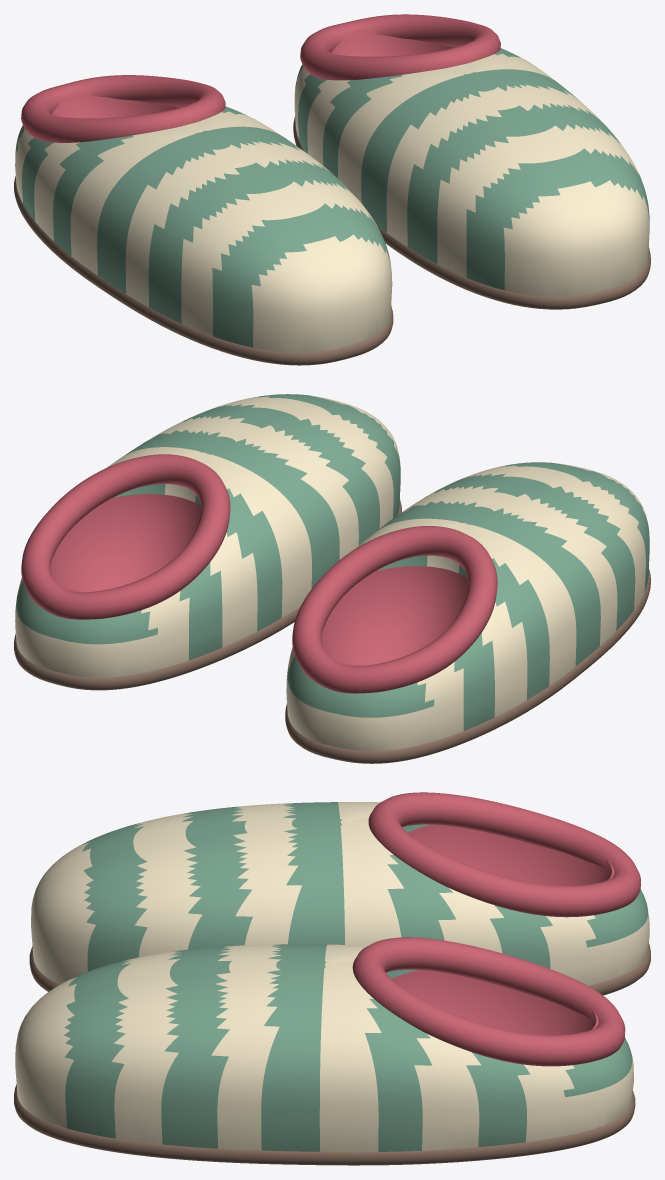
Rendered from sailor-slippers.glb.
The picture shows the model from 3 angles, top to bottom: view 1: azimuth 30°, elevation 25°; view 2: azimuth 150°, elevation 25°; view 3: azimuth 270°, elevation 25°; orthographic projection. The views are drawn at different scales.
Parts seen in each view (by area): view 1: LEFT_SLIPPER_UPPER_CS_STRIPE1_CS_STRIPE2, RIGHT_SLIPPER_UPPER_CS_STRIPE1_CS_STRIPE2, LEFT_COLLAR_CS_ANKLE, RIGHT_COLLAR_CS_ANKLE, LEFT_SOLE_CS_SOLE, RIGHT_SOLE_CS_SOLE; view 2: RIGHT_SLIPPER_UPPER_CS_STRIPE1_CS_STRIPE2, LEFT_SLIPPER_UPPER_CS_STRIPE1_CS_STRIPE2, RIGHT_COLLAR_CS_ANKLE, LEFT_COLLAR_CS_ANKLE, LEFT_SOLE_CS_SOLE, RIGHT_SOLE_CS_SOLE; view 3: RIGHT_SLIPPER_UPPER_CS_STRIPE1_CS_STRIPE2, LEFT_SLIPPER_UPPER_CS_STRIPE1_CS_STRIPE2, RIGHT_COLLAR_CS_ANKLE, LEFT_COLLAR_CS_ANKLE, RIGHT_SOLE_CS_SOLE, LEFT_SOLE_CS_SOLE.
Boxes of the visible parts, bbox=[...] form: LEFT_SLIPPER_UPPER_CS_STRIPE1_CS_STRIPE2: bbox=[15, 87, 392, 352]; RIGHT_SLIPPER_UPPER_CS_STRIPE1_CS_STRIPE2: bbox=[294, 25, 649, 296]; LEFT_COLLAR_CS_ANKLE: bbox=[21, 75, 225, 142]; RIGHT_COLLAR_CS_ANKLE: bbox=[300, 14, 500, 80]; LEFT_SOLE_CS_SOLE: bbox=[14, 176, 393, 365]; RIGHT_SOLE_CS_SOLE: bbox=[293, 117, 650, 309]; RIGHT_SLIPPER_UPPER_CS_STRIPE1_CS_STRIPE2: bbox=[15, 394, 400, 677]; LEFT_SLIPPER_UPPER_CS_STRIPE1_CS_STRIPE2: bbox=[286, 462, 649, 750]; RIGHT_COLLAR_CS_ANKLE: bbox=[21, 454, 230, 619]; LEFT_COLLAR_CS_ANKLE: bbox=[292, 526, 497, 693]; LEFT_SOLE_CS_SOLE: bbox=[285, 568, 650, 763]; RIGHT_SOLE_CS_SOLE: bbox=[14, 499, 401, 690]; RIGHT_SLIPPER_UPPER_CS_STRIPE1_CS_STRIPE2: bbox=[15, 944, 633, 1152]; LEFT_SLIPPER_UPPER_CS_STRIPE1_CS_STRIPE2: bbox=[31, 802, 649, 985]; RIGHT_COLLAR_CS_ANKLE: bbox=[352, 937, 625, 1066]; LEFT_COLLAR_CS_ANKLE: bbox=[368, 792, 640, 917]; RIGHT_SOLE_CS_SOLE: bbox=[14, 1084, 635, 1165]; LEFT_SOLE_CS_SOLE: bbox=[29, 943, 650, 995].
Size of the model in its own units: 2.74 by 0.7565 by 2.83.
